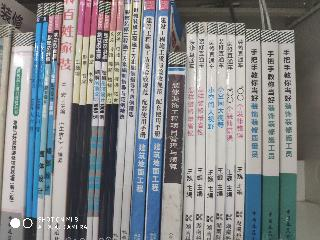book-spine: (0, 31, 34, 240), (51, 0, 78, 239), (131, 1, 155, 240), (146, 1, 170, 239), (71, 1, 92, 240), (121, 0, 141, 240), (65, 1, 84, 240), (92, 1, 111, 240), (113, 1, 132, 239), (161, 53, 185, 239), (99, 0, 117, 240), (37, 2, 55, 240), (80, 1, 98, 239), (106, 1, 124, 239), (25, 4, 43, 240), (31, 3, 49, 239), (87, 1, 104, 240), (44, 2, 61, 240), (261, 31, 278, 240), (278, 31, 295, 239), (246, 30, 260, 239), (183, 23, 196, 239), (194, 23, 206, 239), (205, 22, 216, 239), (215, 23, 226, 239), (235, 24, 244, 240), (225, 24, 234, 239)
